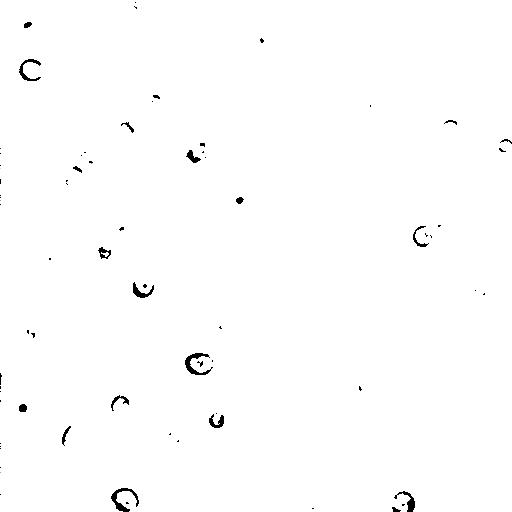micro-algae: (256, 0, 360, 98), (385, 112, 458, 185), (0, 130, 58, 198), (143, 349, 196, 405), (397, 471, 458, 511), (194, 128, 235, 172), (221, 313, 260, 351), (70, 137, 108, 174), (36, 239, 71, 271), (109, 218, 143, 250), (382, 320, 415, 350), (347, 372, 380, 401), (112, 116, 143, 145), (421, 209, 452, 238), (464, 276, 496, 303), (140, 438, 170, 465), (131, 269, 157, 300), (183, 352, 215, 377), (243, 1, 270, 28), (173, 147, 200, 174), (18, 57, 46, 83), (58, 166, 87, 191), (11, 12, 39, 37), (60, 423, 85, 450), (111, 487, 139, 511), (21, 324, 46, 349), (10, 396, 36, 419), (390, 489, 416, 511), (485, 0, 512, 21), (411, 224, 434, 248), (250, 28, 273, 50), (100, 497, 136, 511), (192, 140, 211, 166), (356, 95, 378, 117), (261, 105, 283, 127), (110, 394, 131, 417), (103, 459, 130, 476), (94, 238, 113, 261), (0, 373, 16, 398), (441, 119, 460, 139), (498, 374, 512, 401), (167, 424, 186, 443), (227, 193, 250, 208), (208, 411, 226, 429), (305, 500, 328, 512), (128, 0, 153, 11), (497, 137, 512, 154), (447, 78, 460, 94), (48, 0, 68, 7)
